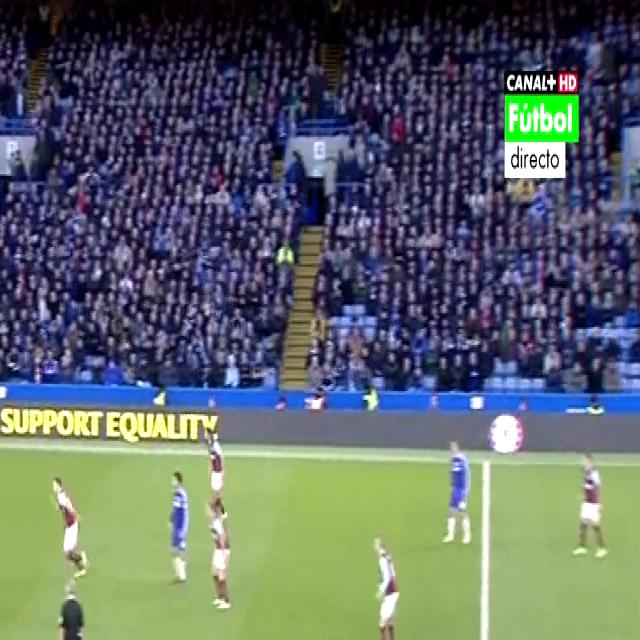referee: (51, 572, 91, 640)
soccer-player: (568, 440, 615, 573), (440, 421, 481, 551), (49, 469, 92, 586), (362, 522, 403, 640), (160, 463, 193, 594), (204, 495, 237, 622), (201, 411, 230, 522)
